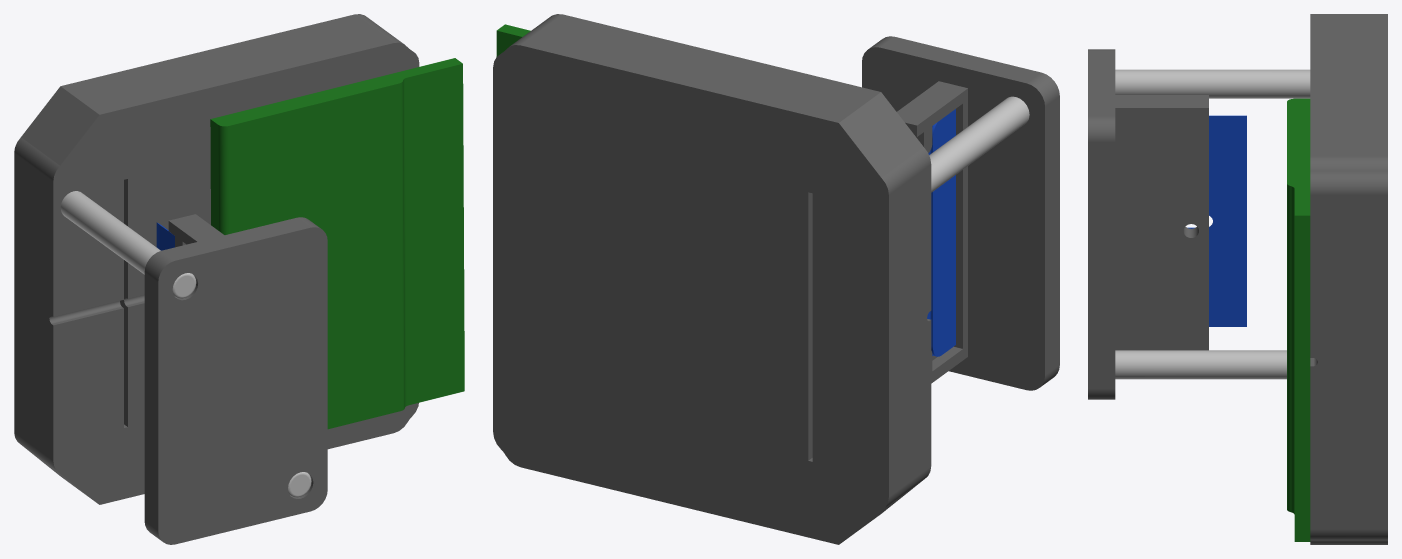
The model's file is gasket-cutter-fixture.glb.
3 views of the same model, side by side, from view 1: azimuth 30°, elevation 25°; view 2: azimuth 150°, elevation 25°; view 3: azimuth 270°, elevation 25° (orthographic). The views are drawn at different scales.
Bounding box in the file's own units: 0.0769 × 0.0698 × 0.049.
